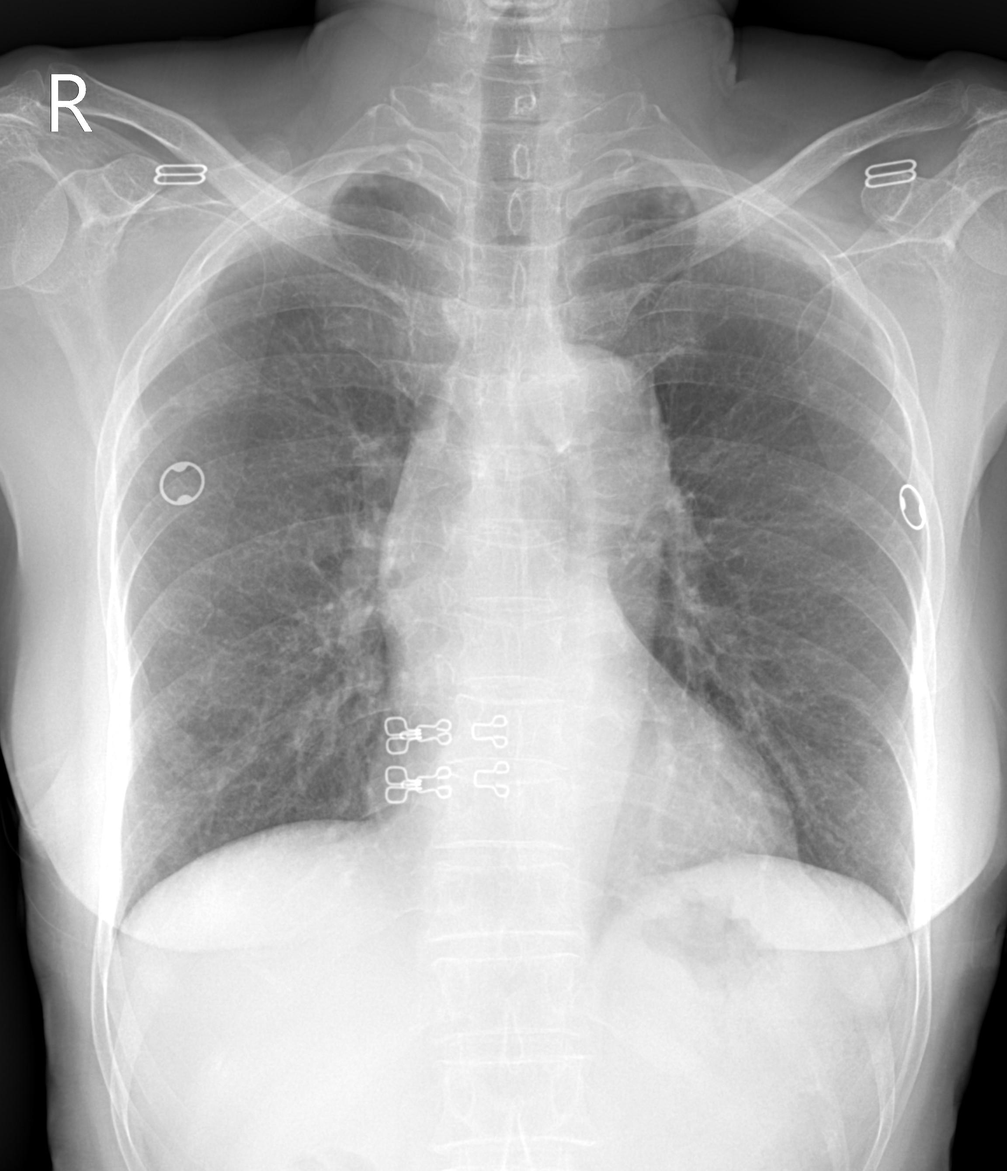Aortic enlargement: (520, 346, 668, 499)
Cardiomegaly: (364, 731, 800, 877)
Pleural thickening: (176, 166, 382, 314), (576, 189, 835, 286)
